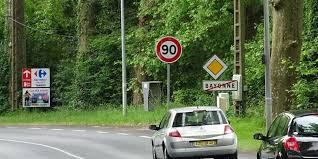Speed_limit_90km: (155, 36, 183, 63)
car: (142, 103, 238, 159)
